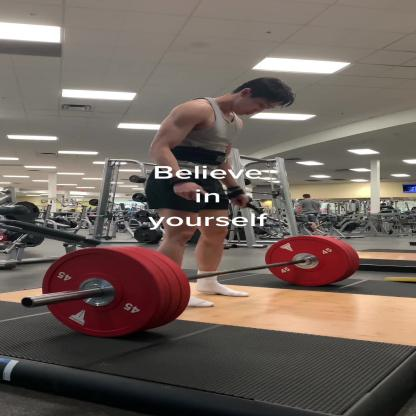Barbell: (32, 245, 178, 341)
